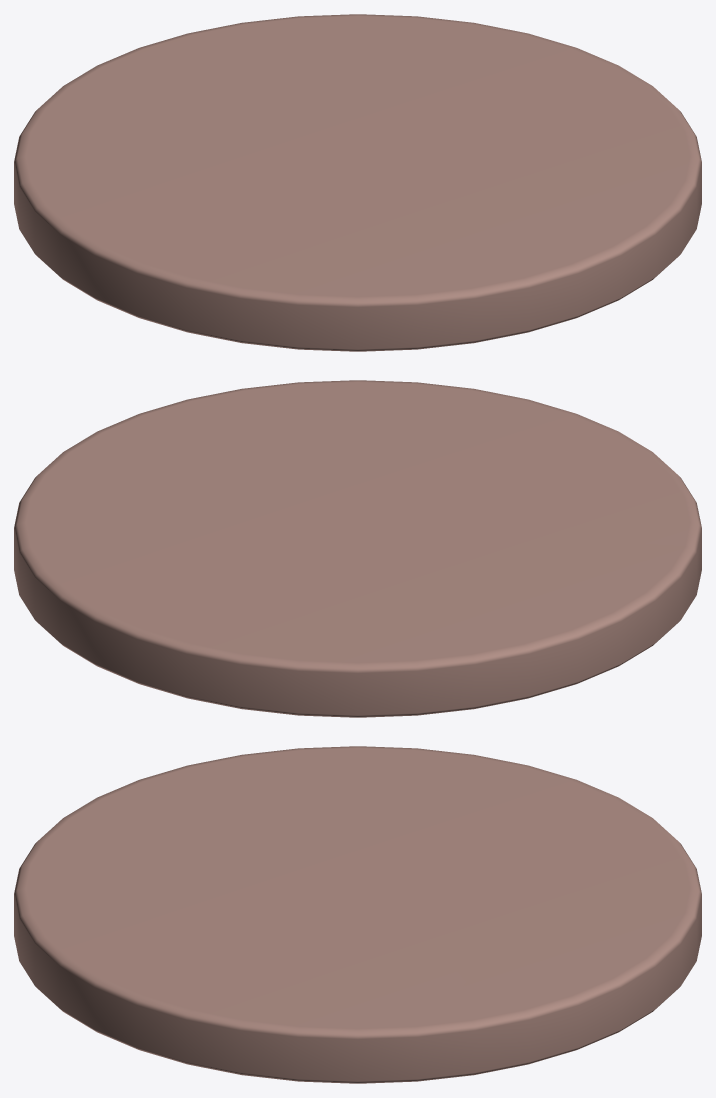
Rendered from City_15_Stand_1.glb.
The picture shows the model from 3 angles, top to bottom: view 1: azimuth 30°, elevation 25°; view 2: azimuth 150°, elevation 25°; view 3: azimuth 270°, elevation 25°; orthographic projection.
Visible parts, largest first — view 1: City_15_Stand_1; view 2: City_15_Stand_1; view 3: City_15_Stand_1.
Part boxes in pixels (bbox=[...]): City_15_Stand_1: bbox=[14, 14, 701, 351]; City_15_Stand_1: bbox=[14, 380, 701, 717]; City_15_Stand_1: bbox=[14, 746, 701, 1083].
Bounding box in the file's own units: 0.7501 × 0.0638 × 0.7501.
1 material, 1 textured.
